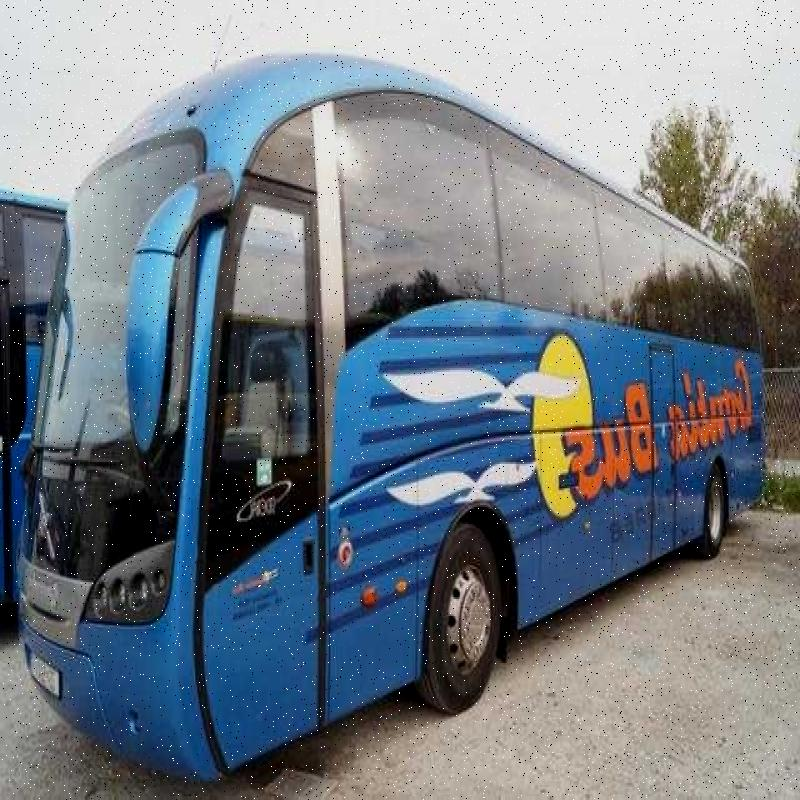bus: (0, 45, 767, 788)
